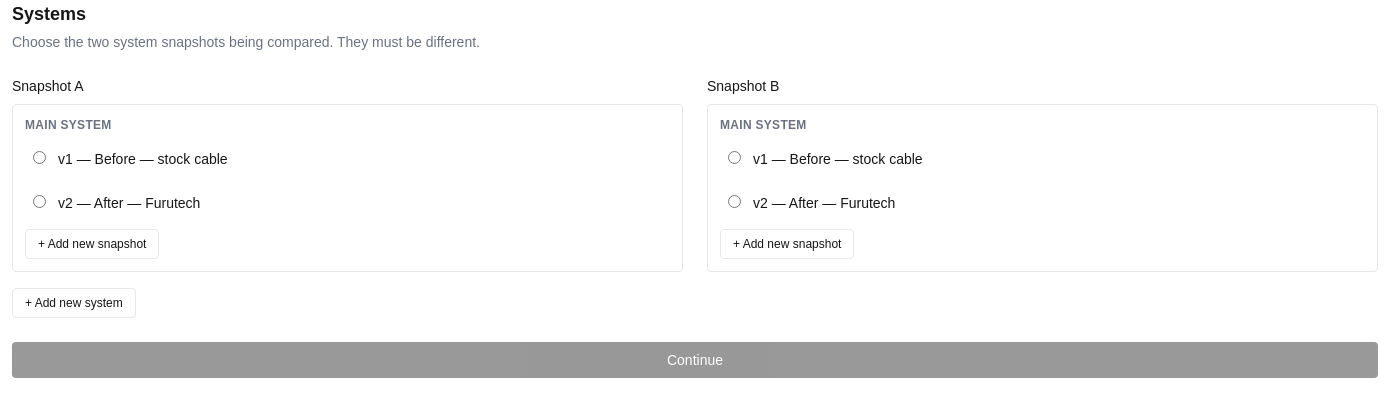
Test case: StepSnapshots › Selection behaviour › enables Continue after selecting existing snapshots for both sides
This screenshot has width=1390, height=395.
Step 1. Click the radio button labelled "v1 — Before — stock cable" below "Snapshot A" → click(40, 158), box [33, 151, 46, 164]
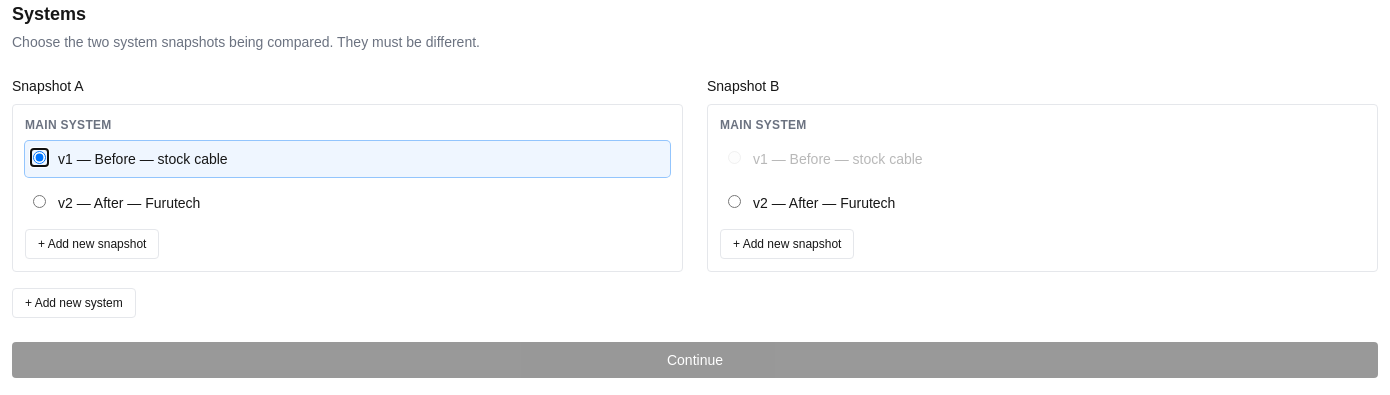
Expected: the button "Continue" is disabled, [12, 342, 1378, 378]
Step 2. Click the radio button labelled "v2 — After — Furutech" below "Snapshot B" → click(734, 202), box [728, 195, 741, 208]
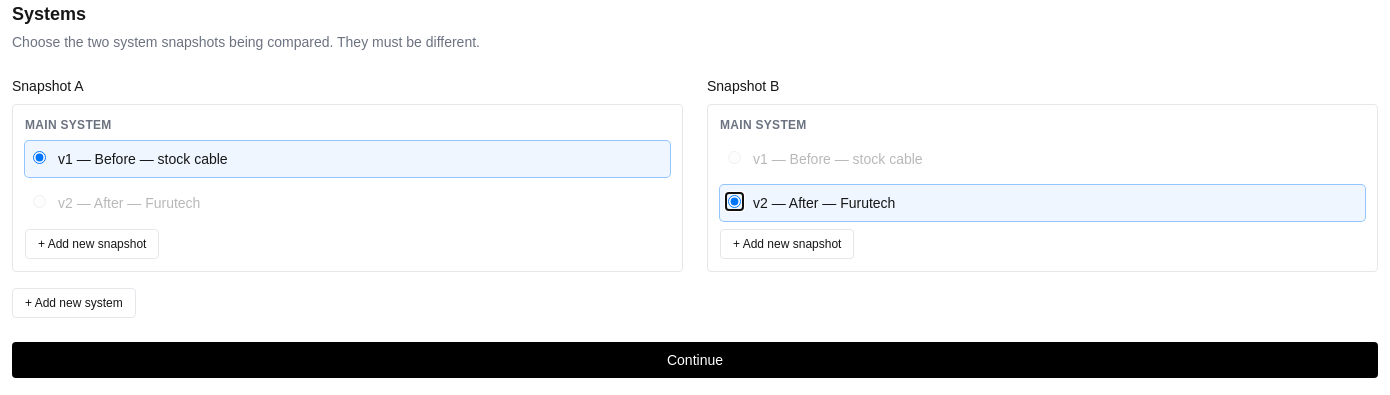
Expected: the button "Continue" is enabled, [12, 342, 1378, 378]
